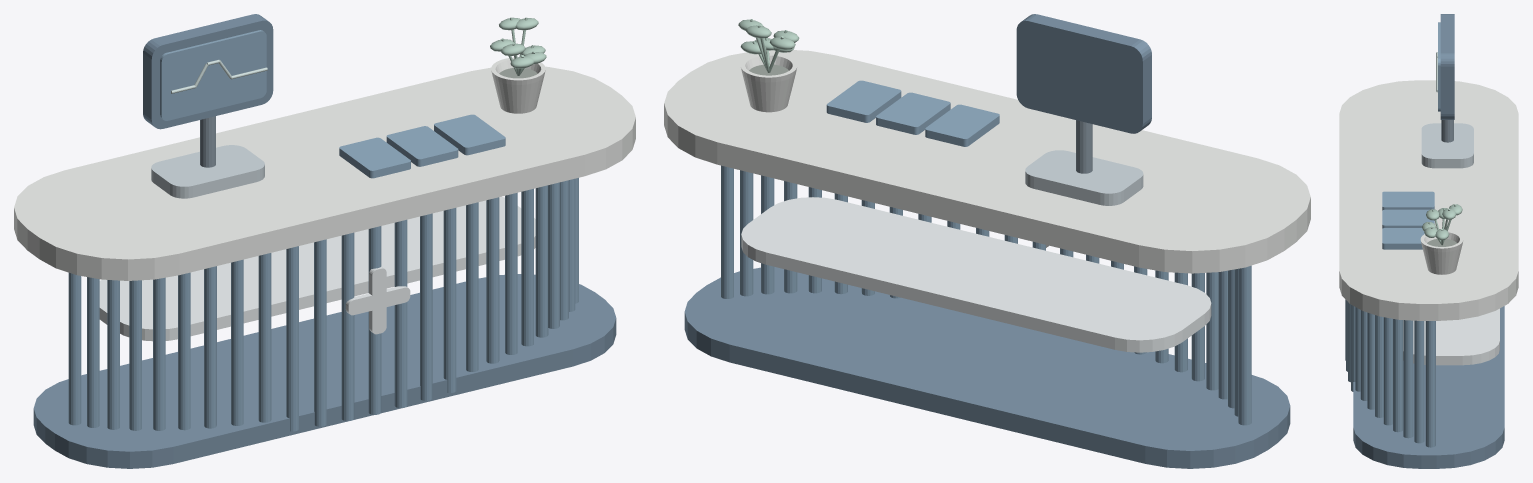
The model's file is hospital_reception_desk.glb.
3 views of the same model, side by side, from view 1: azimuth 30°, elevation 25°; view 2: azimuth 150°, elevation 25°; view 3: azimuth 270°, elevation 25° (orthographic). The views are drawn at different scales.
Visible parts, largest first — view 1: decor_d8dcd8_matte, decor_476a8a_matte, decor_354d66_matte, decor_d4dfe3_matte, decor_9aadb8_metal, decor_729986_matte, decor_455665_metal; view 2: decor_354d66_matte, decor_d8dcd8_matte, decor_d4dfe3_matte, decor_476a8a_matte, decor_9aadb8_metal, decor_729986_matte, decor_455665_metal; view 3: decor_d8dcd8_matte, decor_476a8a_matte, decor_354d66_matte, decor_d4dfe3_matte, decor_9aadb8_metal, decor_729986_matte, decor_455665_metal.
Boxes of the visible parts, box(x1,y1,x2,y2) form: decor_d8dcd8_matte: box(14, 57, 635, 280); decor_476a8a_matte: box(68, 30, 578, 431); decor_354d66_matte: box(33, 14, 616, 468); decor_d4dfe3_matte: box(99, 196, 535, 341); decor_9aadb8_metal: box(151, 145, 264, 198); decor_729986_matte: box(490, 17, 546, 75); decor_455665_metal: box(200, 116, 215, 167); decor_354d66_matte: box(684, 14, 1290, 468); decor_d8dcd8_matte: box(664, 50, 1310, 273); decor_d4dfe3_matte: box(741, 197, 1211, 352); decor_476a8a_matte: box(721, 80, 1251, 425); decor_9aadb8_metal: box(1025, 150, 1143, 205); decor_729986_matte: box(738, 19, 799, 72); decor_455665_metal: box(1076, 120, 1092, 173); decor_d8dcd8_matte: box(1339, 80, 1518, 320); decor_476a8a_matte: box(1345, 22, 1440, 447); decor_354d66_matte: box(1353, 14, 1504, 468); decor_d4dfe3_matte: box(1403, 308, 1499, 365); decor_9aadb8_metal: box(1421, 123, 1473, 168); decor_729986_matte: box(1422, 204, 1462, 245); decor_455665_metal: box(1441, 120, 1453, 142).
Size of the model in its own units: 2.83 by 1.7 by 0.96.
